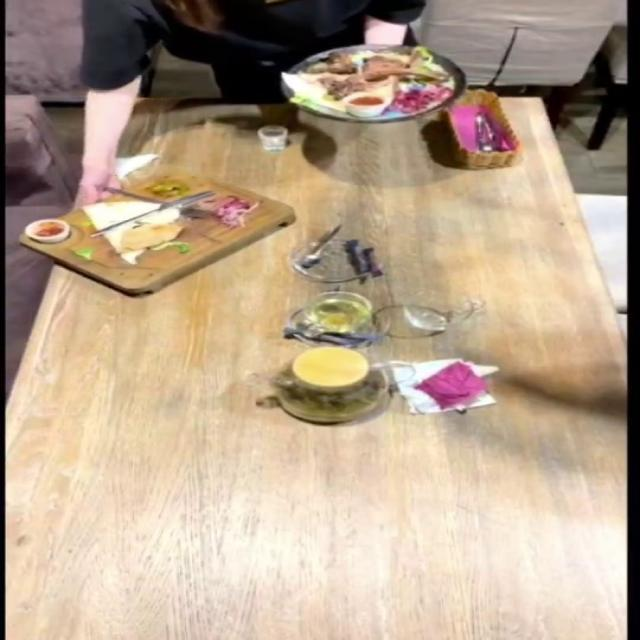meat: (15, 163, 304, 297), (271, 39, 508, 129)
tea: (270, 352, 406, 432)
